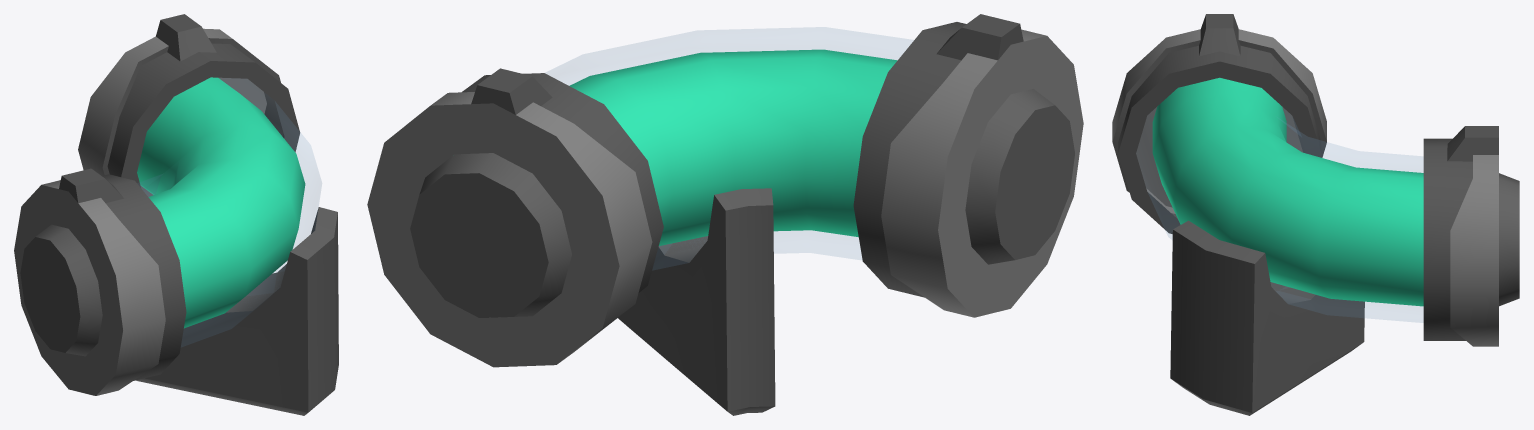
Rendered from Liquid_Blue_Pipe_Elbow.fbx.
3 views of the same model, side by side, from view 1: azimuth 30°, elevation 25°; view 2: azimuth 150°, elevation 25°; view 3: azimuth 270°, elevation 25° (orthographic). The views are drawn at different scales.
Parts seen in each view (by area): view 1: Liquid_Blue_Pipe_Elbow; view 2: Liquid_Blue_Pipe_Elbow; view 3: Liquid_Blue_Pipe_Elbow.
Boxes of the visible parts, box(x1,y1,x2,y2) form: Liquid_Blue_Pipe_Elbow: box(14, 14, 338, 415); Liquid_Blue_Pipe_Elbow: box(367, 14, 1083, 415); Liquid_Blue_Pipe_Elbow: box(1112, 14, 1519, 415).
Size of the model in its own units: 146 by 107 by 146.
